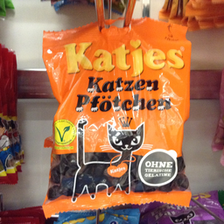candy: (43, 23, 189, 214)
